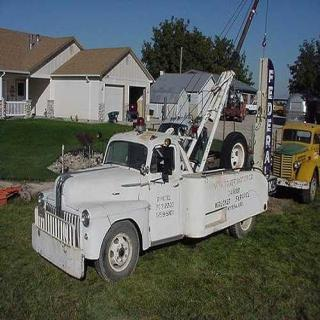Towing_truck: (30, 68, 270, 284)
